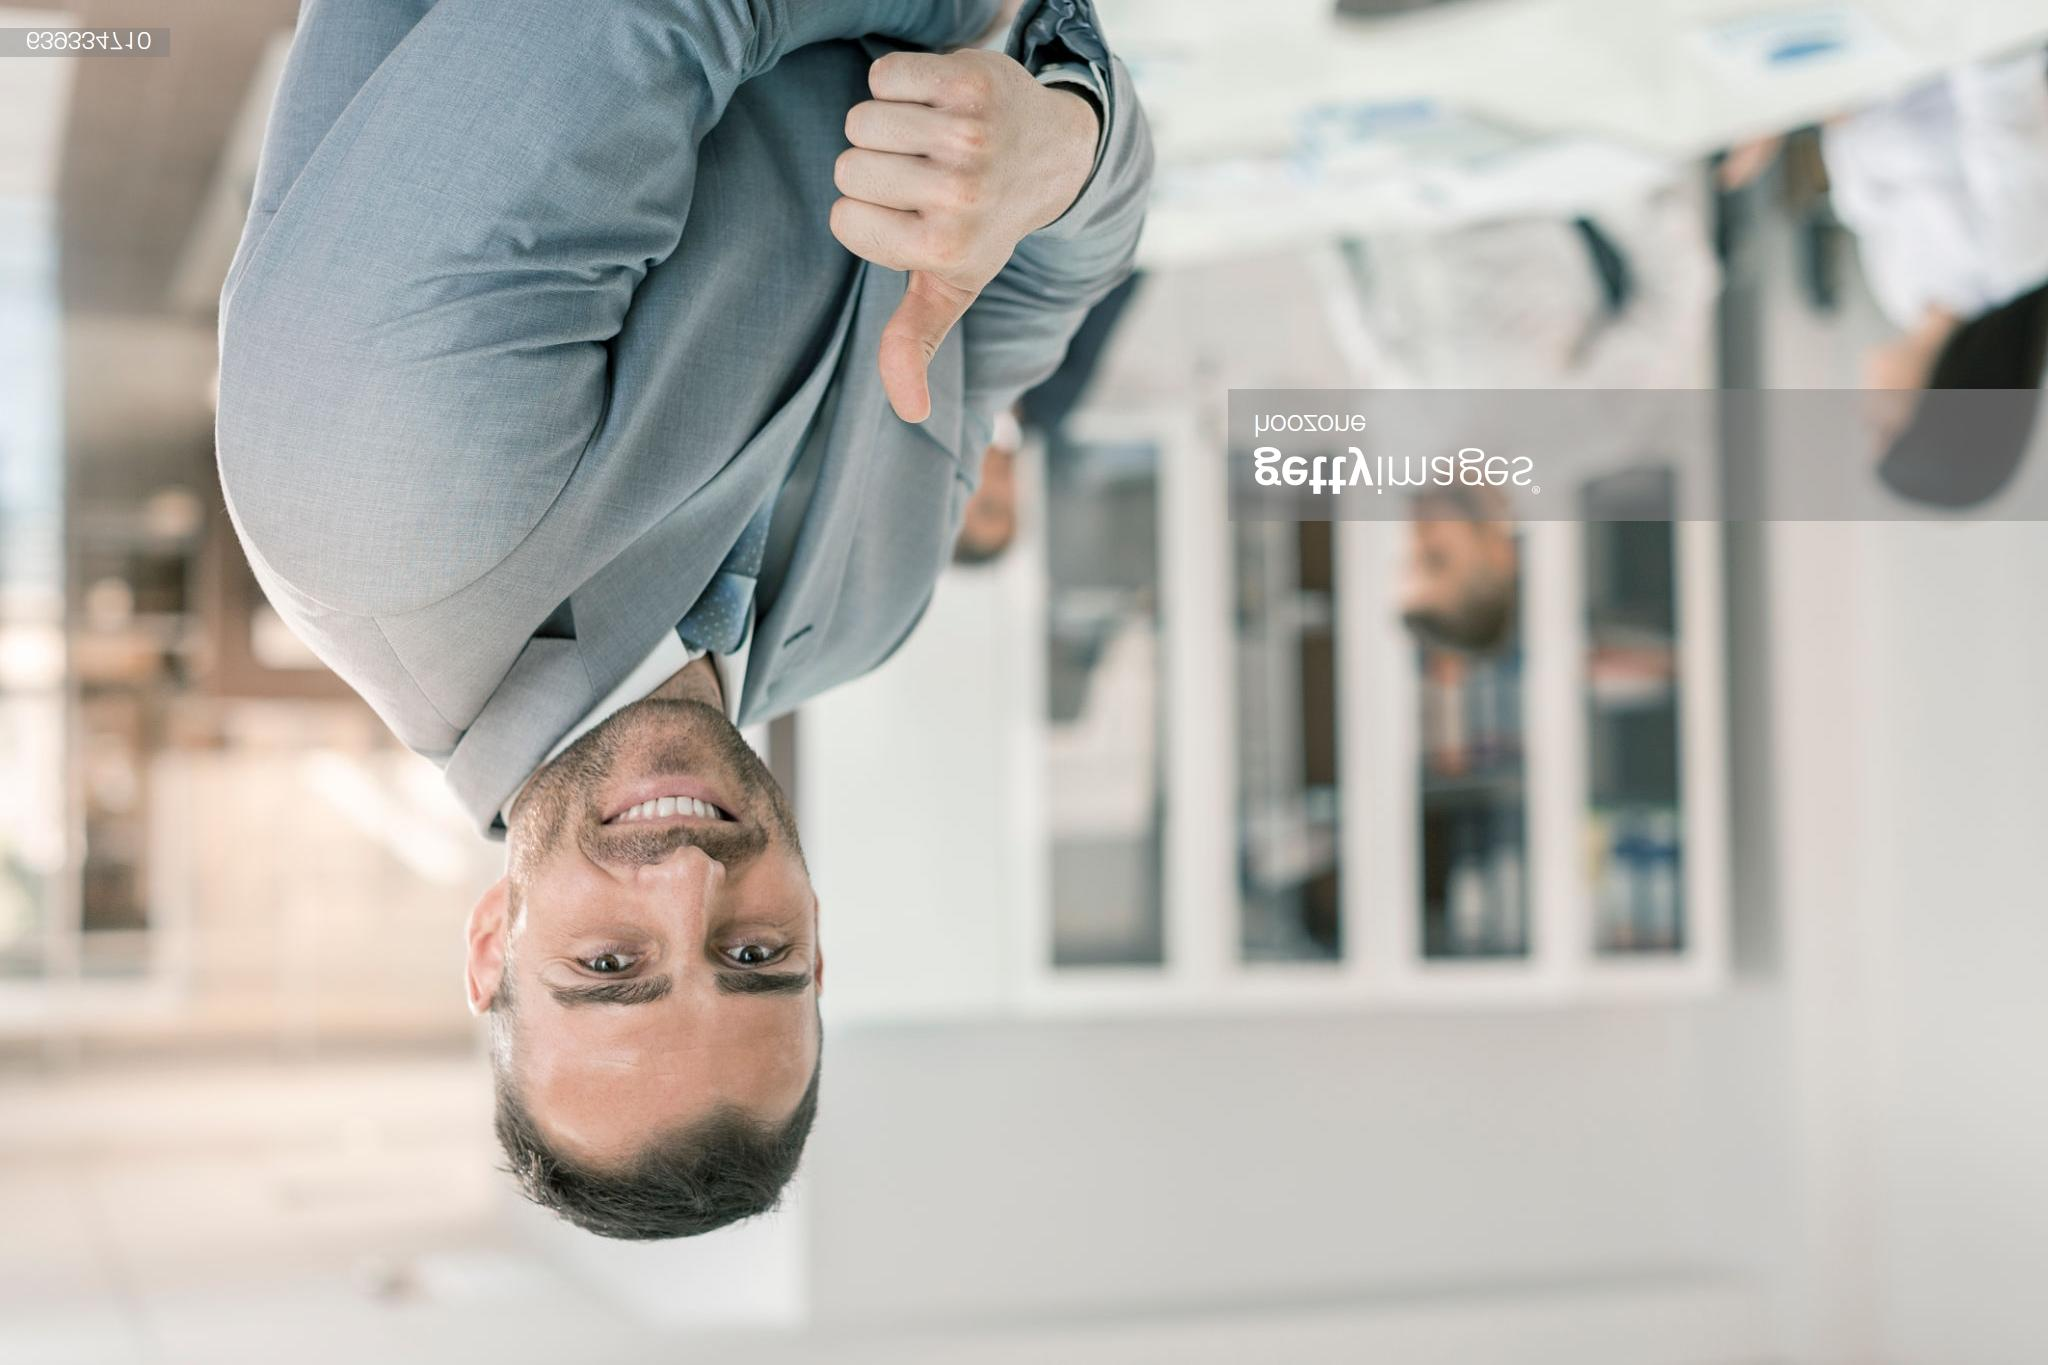thumbsdown: (828, 52, 1022, 425)
